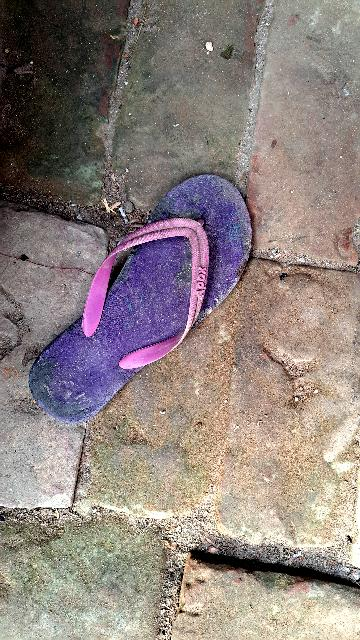sandal: (0, 149, 277, 437)
